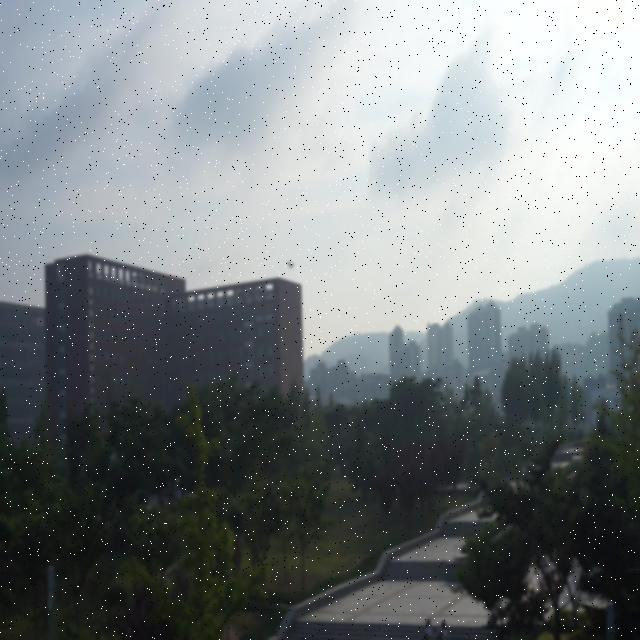UAV: (286, 261, 296, 270)
